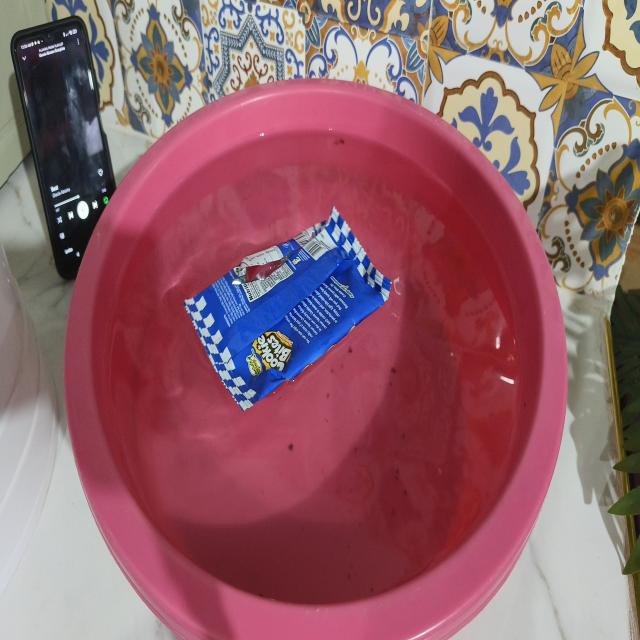Plastic Wrapper: (165, 186, 412, 439)
